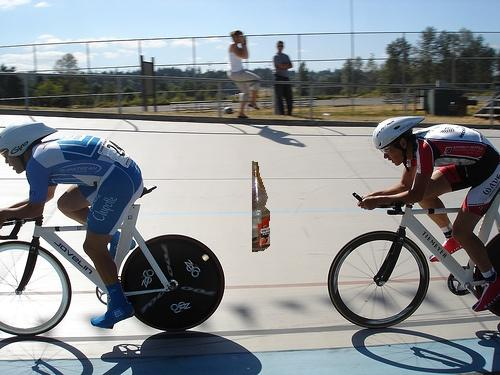tampered: (253, 162, 270, 252)
